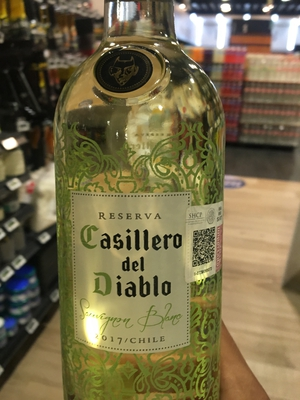casillero del diablo sauvignon blanc: (52, 19, 229, 396)
